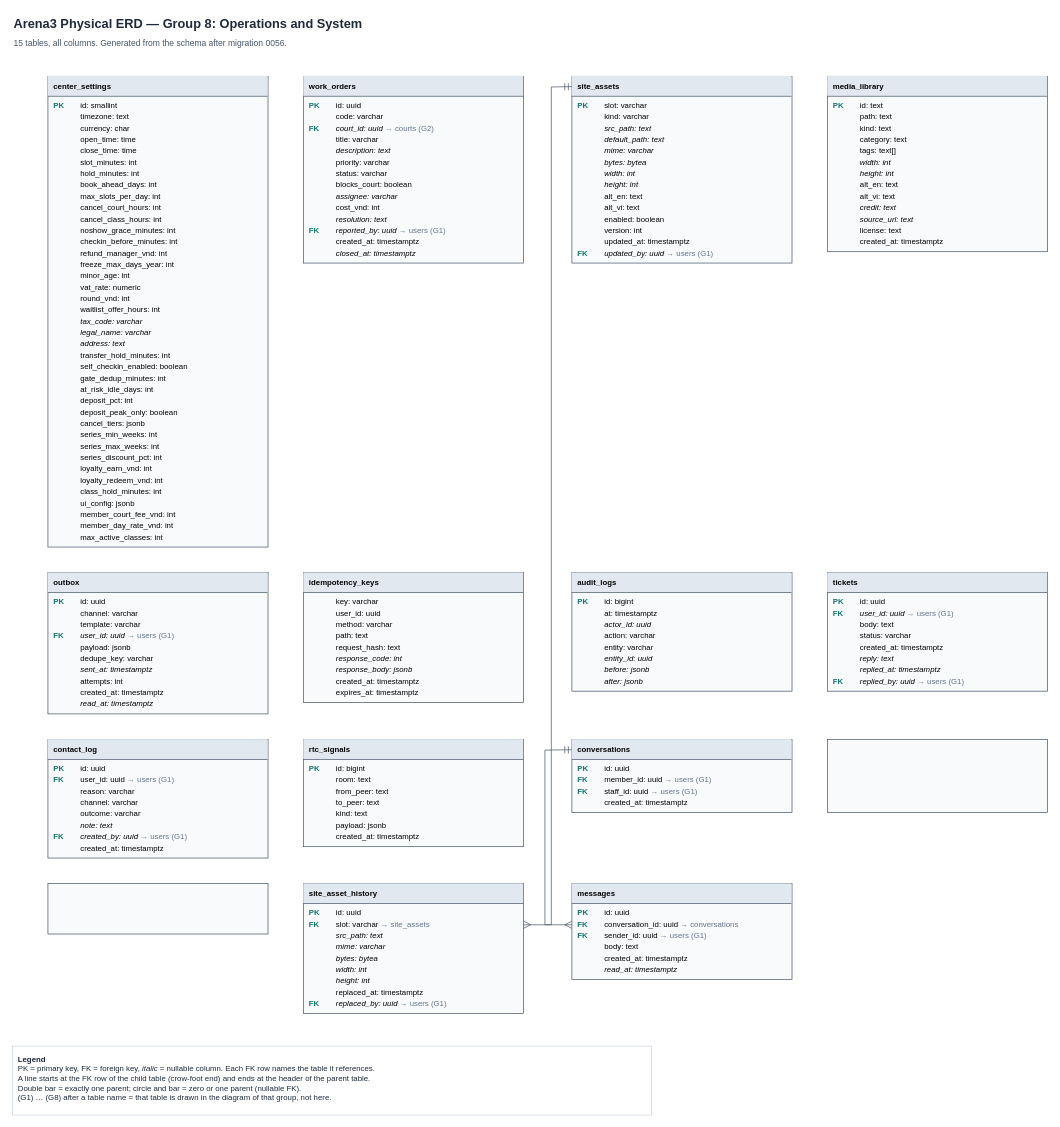
Some shapes in this 1060 by 1127 pixel diagram are drawn without their labels. The centre of each missing label's shape, as x and y in pixels:
feature_flags PK key: varchar enabled: boolean: pixel 157 908
rtc_peers PK room: text PK peer_id: text name: text last_seen: timestamptz: pixel 937 776
